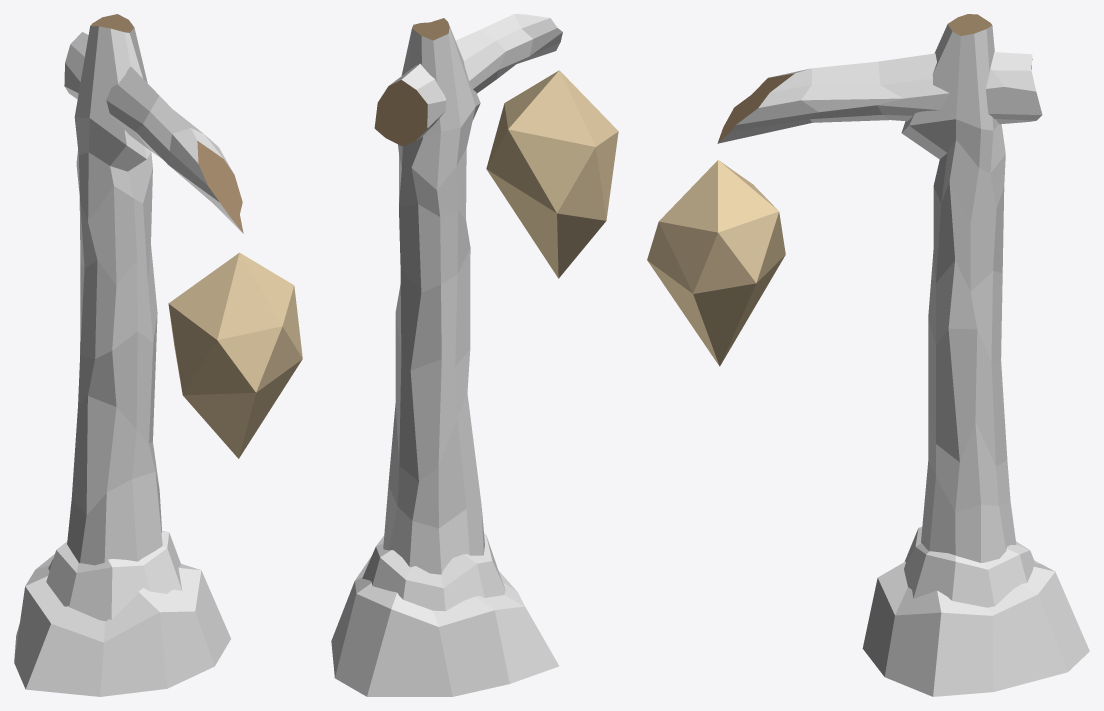
Rendered from FarolaShaderCristal.fbx.
The picture shows the model from 3 angles, left to right: view 1: azimuth 30°, elevation 25°; view 2: azimuth 150°, elevation 25°; view 3: azimuth 270°, elevation 25°; orthographic projection.
Visible parts, largest first — view 1: Cylinder.002, Cylinder, Icosphere, Cylinder.003, Cylinder.001; view 2: Cylinder.002, Cylinder, Icosphere, Cylinder.003, Cylinder.001; view 3: Cylinder.002, Cylinder, Icosphere, Cylinder.003, Cylinder.001.
Boxes of the visible parts, <box> form: Cylinder.002: <box>67,14,162,565</box>; Cylinder: <box>14,554,230,696</box>; Icosphere: <box>168,252,302,458</box>; Cylinder.003: <box>64,32,243,233</box>; Cylinder.001: <box>46,531,182,621</box>; Cylinder.002: <box>383,18,484,574</box>; Cylinder: <box>331,556,558,696</box>; Icosphere: <box>486,70,618,278</box>; Cylinder.003: <box>374,14,562,146</box>; Cylinder.001: <box>362,533,505,611</box>; Cylinder.002: <box>901,14,1016,562</box>; Cylinder: <box>862,560,1089,696</box>; Icosphere: <box>647,160,785,366</box>; Cylinder.003: <box>717,52,1042,143</box>; Cylinder.001: <box>904,527,1036,607</box>.
Bounding box in the file's own units: 262 × 761 × 487.
